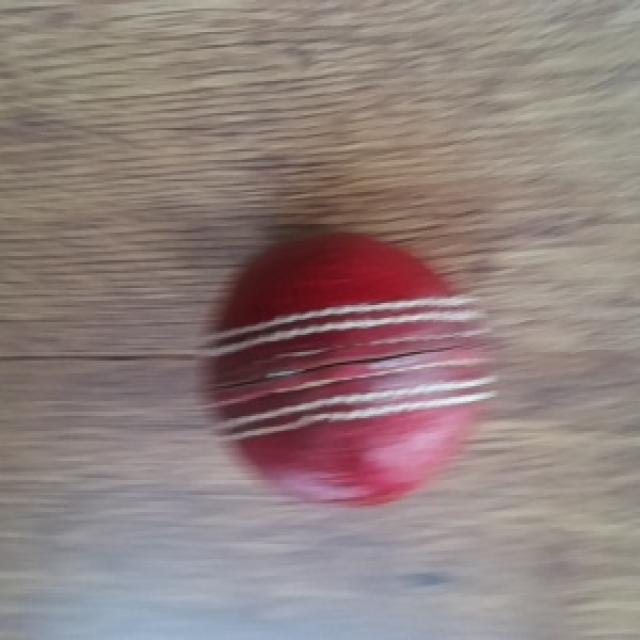ball: (197, 217, 496, 517)
